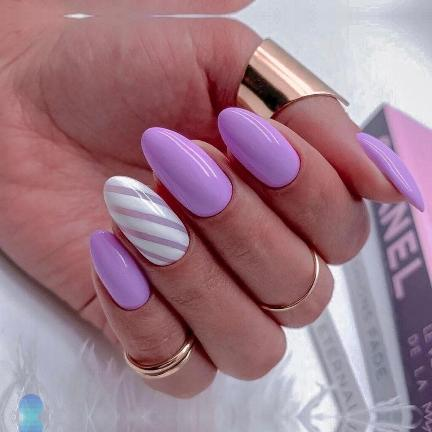Nail: (142, 126, 233, 217), (104, 175, 190, 265), (218, 107, 300, 187), (358, 132, 424, 212), (89, 229, 150, 309)
